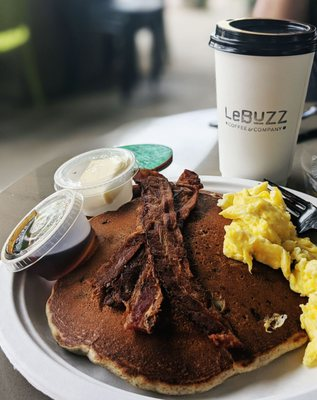burger: (273, 182, 317, 242)
pizza: (208, 16, 317, 185), (53, 147, 138, 218)
soup: (43, 165, 311, 396)
sushi: (53, 147, 138, 217)
